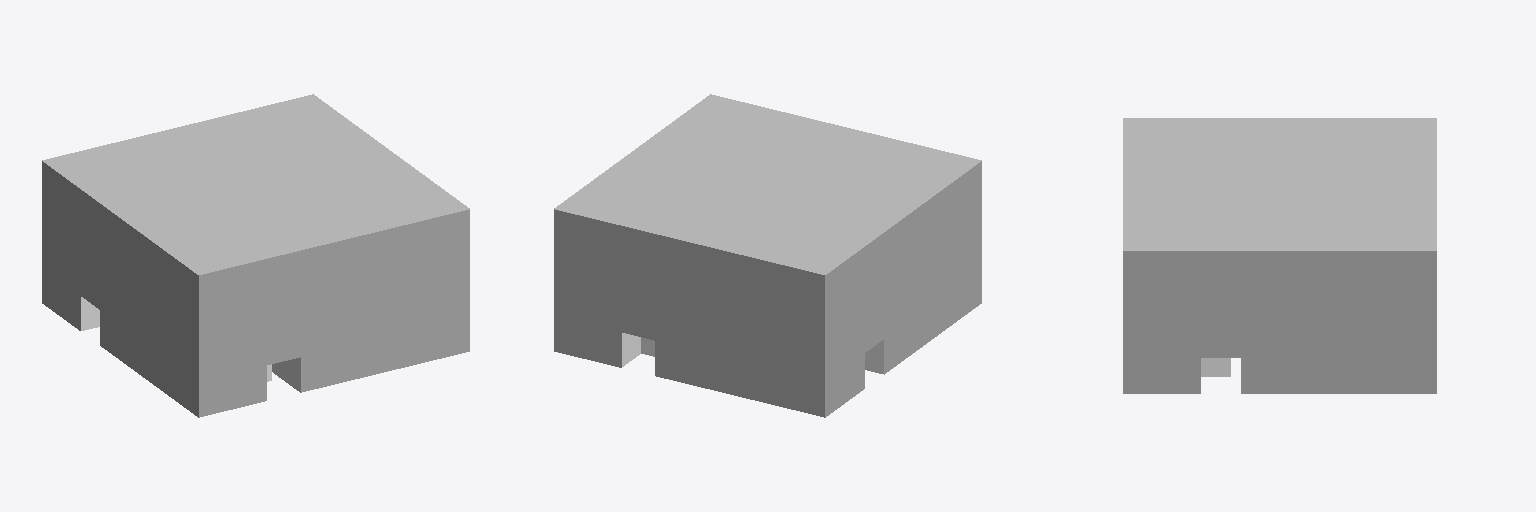
File: btlhwy_MAP01.obj
3 views of the same model, side by side, from view 1: azimuth 30°, elevation 25°; view 2: azimuth 150°, elevation 25°; view 3: azimuth 270°, elevation 25° (orthographic).
Visible parts, largest first — view 1: MAP01; view 2: MAP01; view 3: MAP01.
Part boxes in pixels (x1,y1,x2,y2): MAP01: (42, 94, 469, 417); MAP01: (554, 94, 981, 417); MAP01: (1123, 118, 1436, 393).
Bounding box in the file's own units: 256 × 128 × 256.